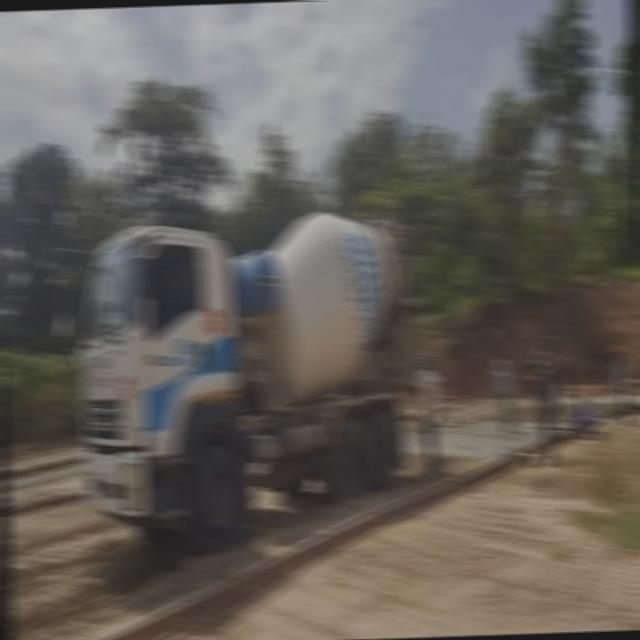cement_mixer_truck: (70, 192, 429, 573)
